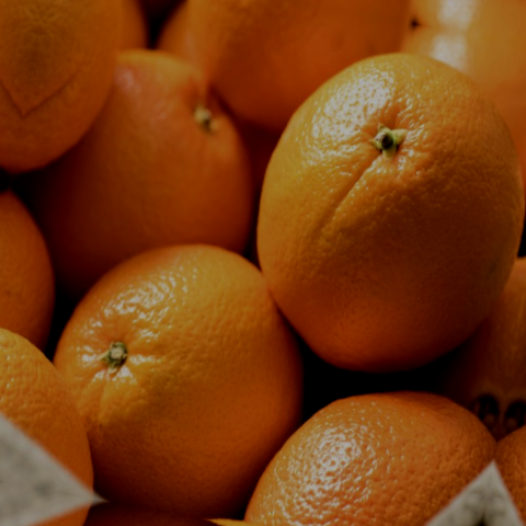orange: (215, 1, 526, 411), (11, 188, 349, 526)
